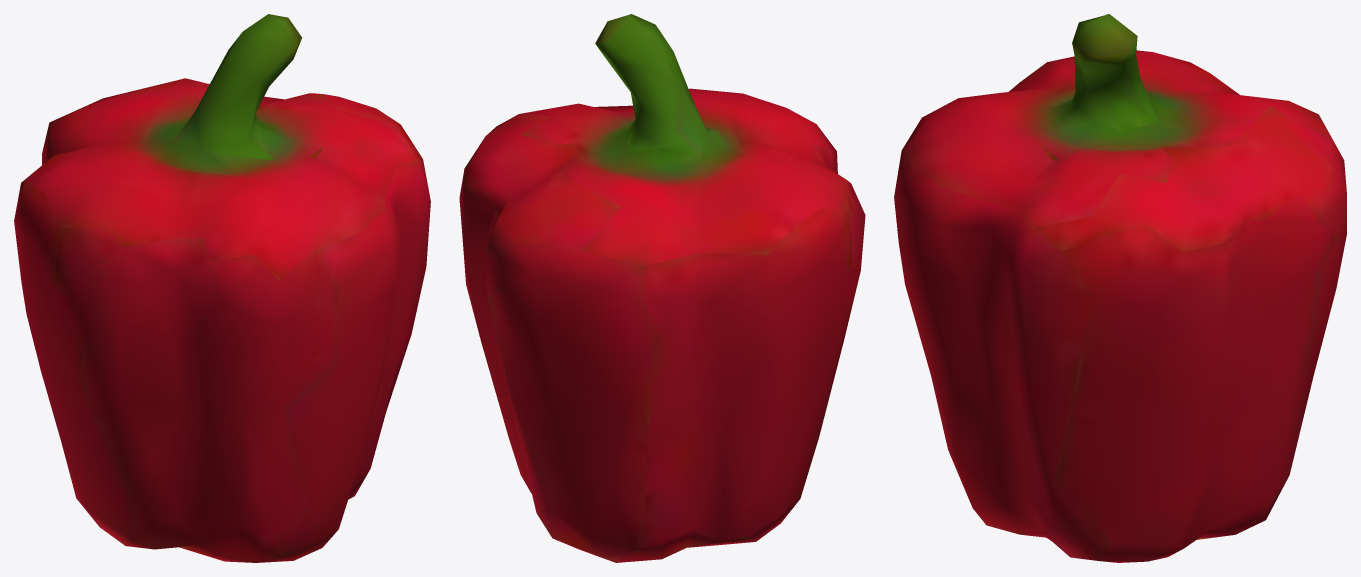
Rendered from pimentao.glb.
3 renders of one model, left to right at view 1: azimuth 30°, elevation 25°; view 2: azimuth 150°, elevation 25°; view 3: azimuth 270°, elevation 25°, orthographic. The views are drawn at different scales.
Parts seen in each view (by area): view 1: pimentao; view 2: pimentao; view 3: pimentao.
Boxes of the visible parts, x1,y1,x2,y2 form: pimentao: [14, 14, 430, 562]; pimentao: [459, 14, 865, 562]; pimentao: [894, 14, 1346, 562].
Size of the model in its own units: 0.1099 by 0.145 by 0.113.
Materials: 1 (1 with a texture image).
